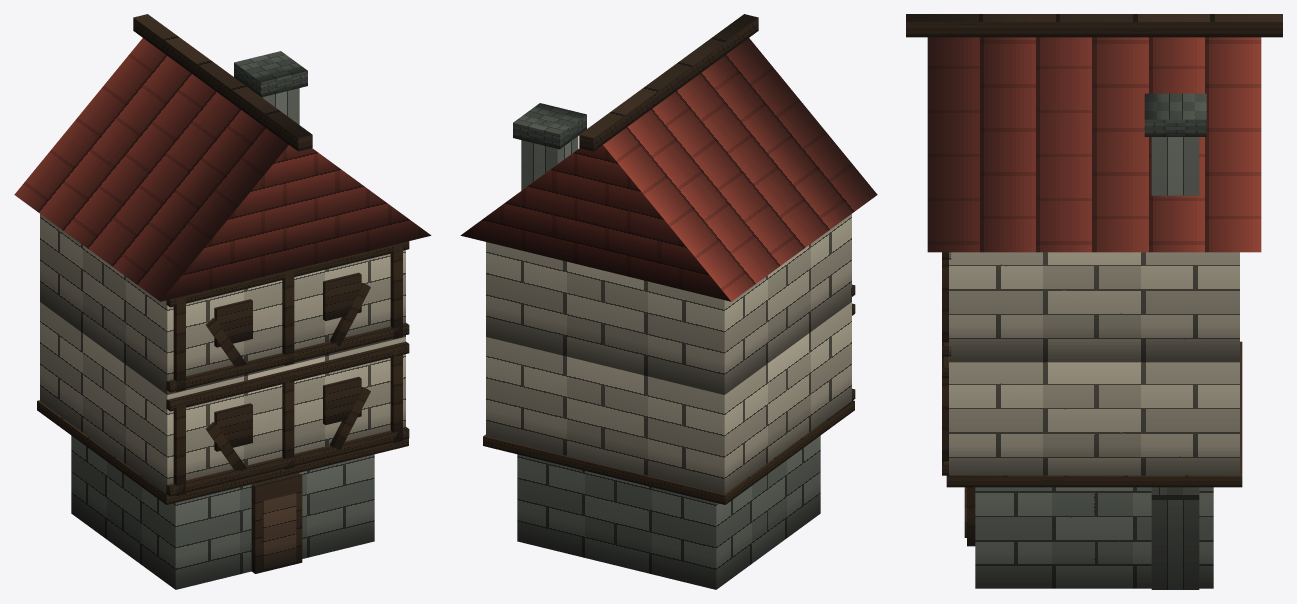
File: house_tall.gltf
The picture shows the model from 3 angles, left to right: view 1: azimuth 30°, elevation 25°; view 2: azimuth 150°, elevation 25°; view 3: azimuth 270°, elevation 25°; orthographic projection. The views are drawn at different scales.
Parts seen in each view (by area): view 1: house_tall; view 2: house_tall; view 3: house_tall.
Part boxes in pixels (x1,y1,x2,y2): house_tall: [14, 14, 431, 589]; house_tall: [460, 14, 877, 589]; house_tall: [906, 14, 1282, 589].
Bounding box in the file's own units: 1.5 × 2.38 × 1.58.
Materials: 1 (1 with a texture image).
